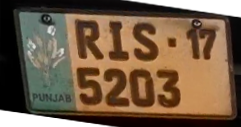0: (129, 67, 156, 108)
2: (103, 66, 130, 108)
3: (155, 67, 182, 109)
5: (74, 66, 104, 107)
I: (106, 18, 130, 61)
R: (71, 18, 105, 62)
S: (131, 19, 161, 62)
